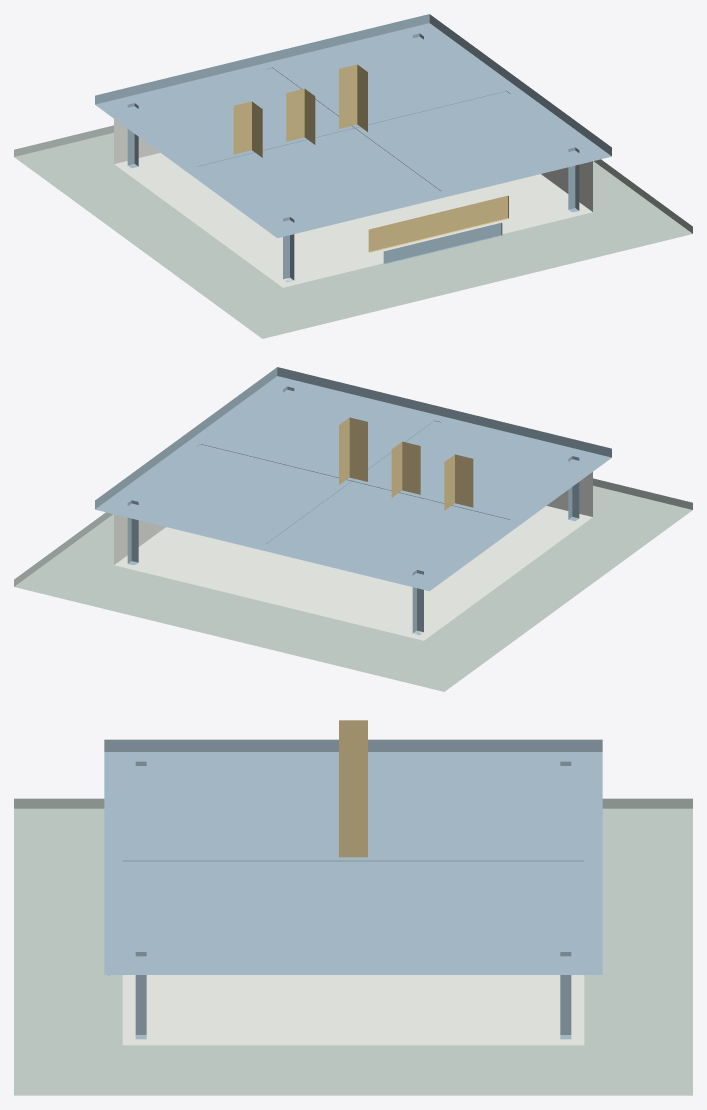
Rendered from furniture_store.glb.
3 views of the same model, one above another, from view 1: azimuth 30°, elevation 25°; view 2: azimuth 150°, elevation 25°; view 3: azimuth 270°, elevation 25° (orthographic). The views are drawn at different scales.
Visible parts, largest first — view 1: Roof, Foundation, Walls, Details, Frame; view 2: Roof, Foundation, Walls, Details, Frame; view 3: Roof, Foundation, Walls, Details, Frame.
Boxes of the visible parts, x1,y1,x2,y2 form: Roof: [95, 14, 611, 238]; Foundation: [14, 125, 692, 338]; Walls: [114, 119, 592, 287]; Details: [233, 64, 508, 264]; Frame: [127, 33, 579, 281]; Roof: [95, 367, 611, 591]; Foundation: [14, 478, 692, 691]; Walls: [114, 472, 592, 640]; Details: [339, 417, 473, 510]; Frame: [127, 386, 579, 634]; Roof: [104, 739, 602, 974]; Foundation: [14, 798, 692, 1095]; Walls: [122, 975, 584, 1045]; Details: [107, 720, 367, 975]; Frame: [123, 761, 583, 1039].
Bounding box in the file's own units: 40 × 11.1 × 40.
